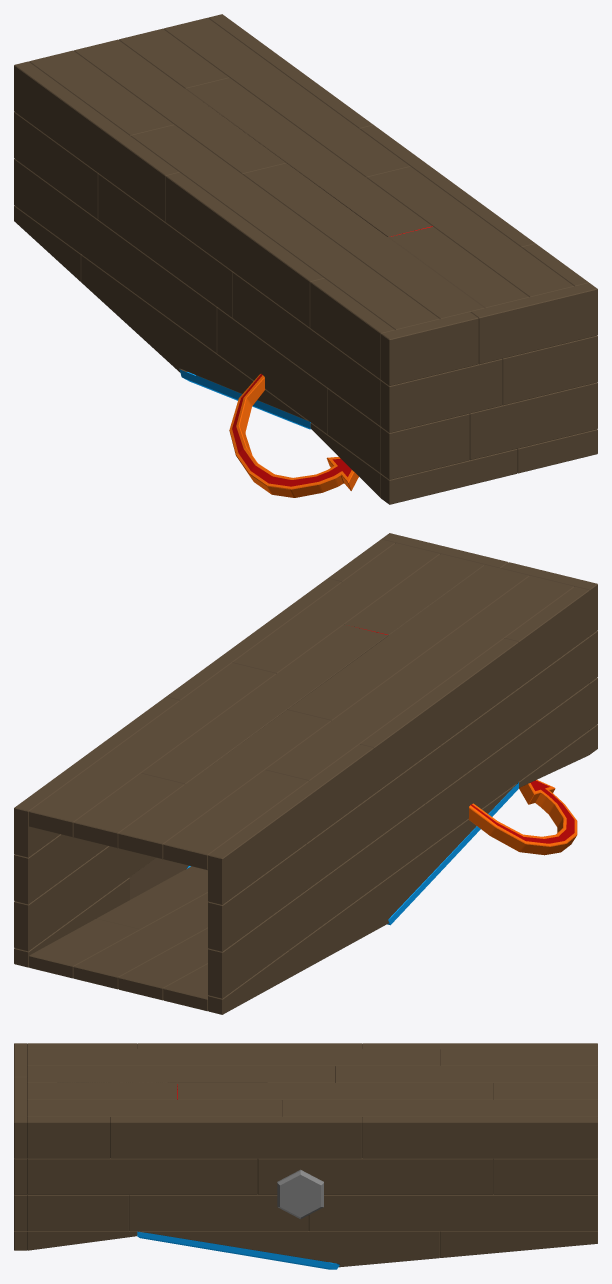
Rendered from SlotMachine.glb.
3 views of the same model, one above another, from view 1: azimuth 30°, elevation 25°; view 2: azimuth 150°, elevation 25°; view 3: azimuth 270°, elevation 25° (orthographic). The views are drawn at different scales.
Parts seen in each view (by area): view 1: SlotMachine; view 2: SlotMachine; view 3: SlotMachine.
Boxes of the visible parts, left/top/right/bottom form: SlotMachine: left=14, top=14, right=597, bottom=504; SlotMachine: left=14, top=533, right=597, bottom=1014; SlotMachine: left=14, top=1043, right=597, bottom=1269.
Bounding box in the file's own units: 0.9032 × 0.6308 × 2.18.
2 materials, 2 textured.
